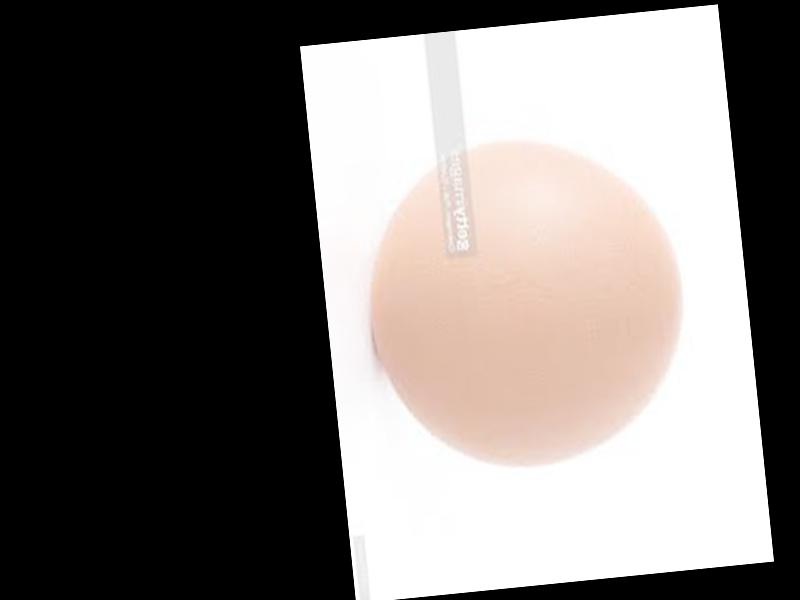Eggs: (361, 124, 698, 479)
